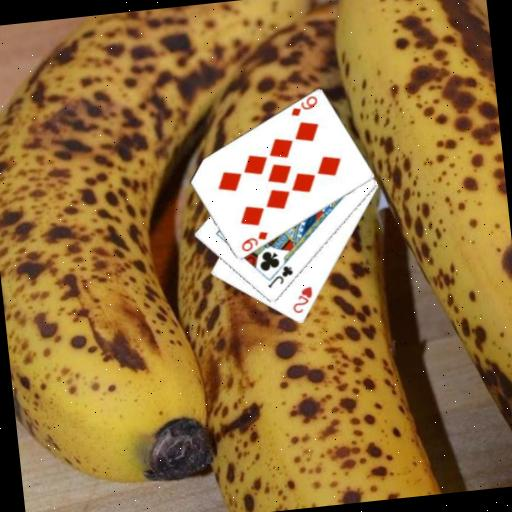2H: (287, 283, 317, 316)
9D: (237, 227, 272, 254), (287, 93, 321, 119)
JC: (263, 262, 297, 290)
